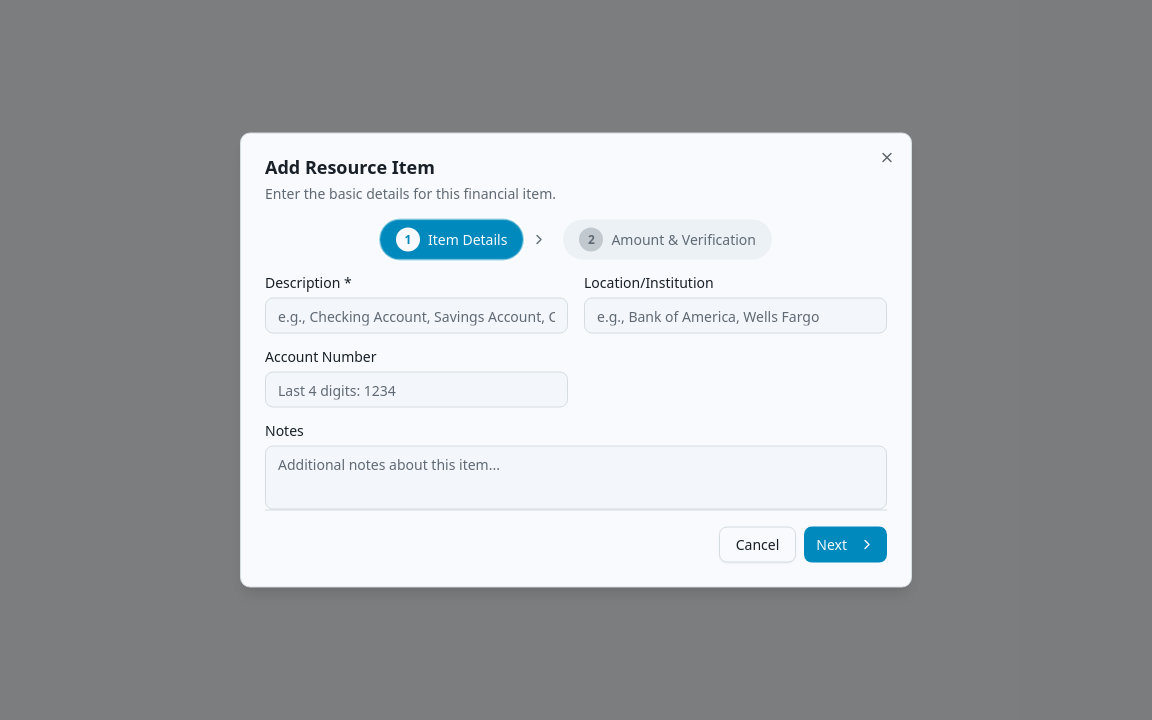
Scenario: FinancialItemStepperModal › has no accessibility violations on the amounts step
The width and height of the screenshot is (1152, 720).
In the field labelled "Description *": (416, 316) [265,298,568,334], type "Test Item"
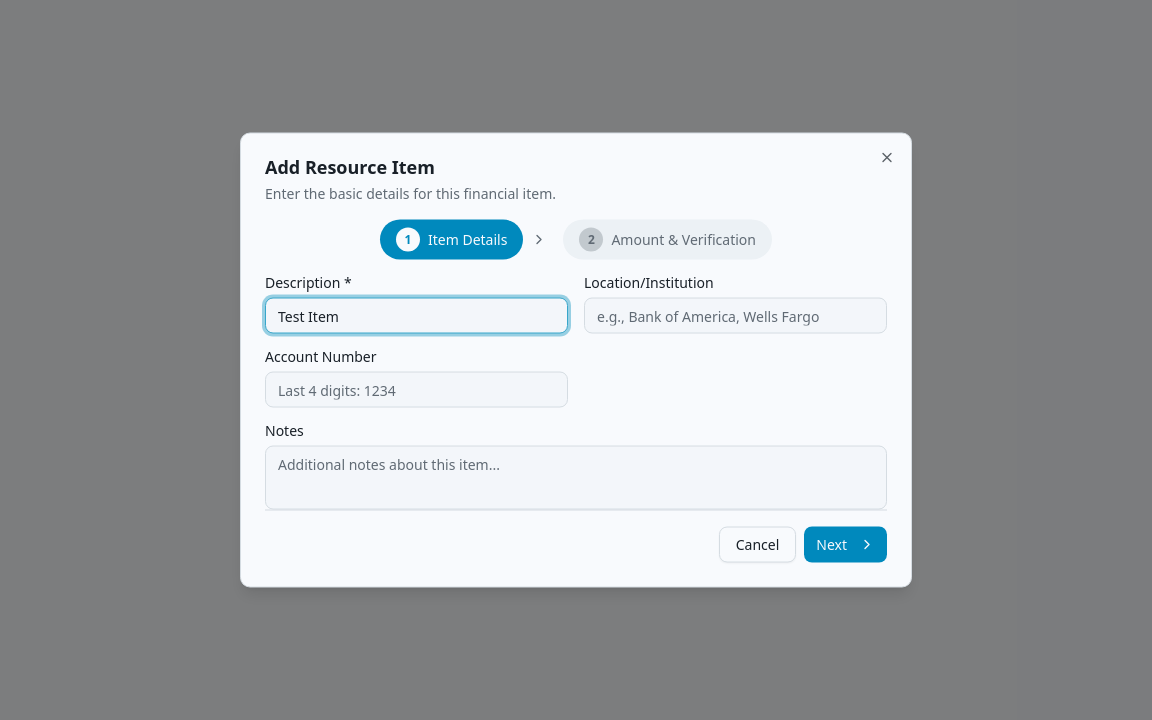
Click the button "Next": (846, 544) [804,526,887,562]
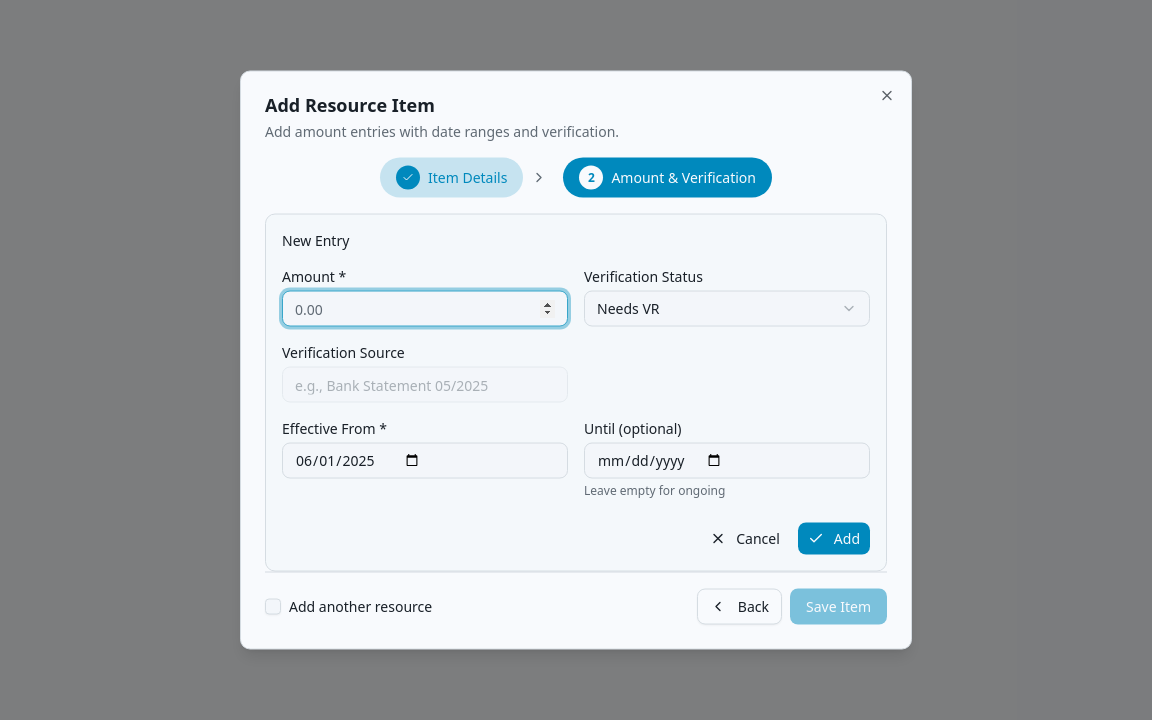
Expected: the number field labelled "Amount *" is shown, [282,290,568,326]
